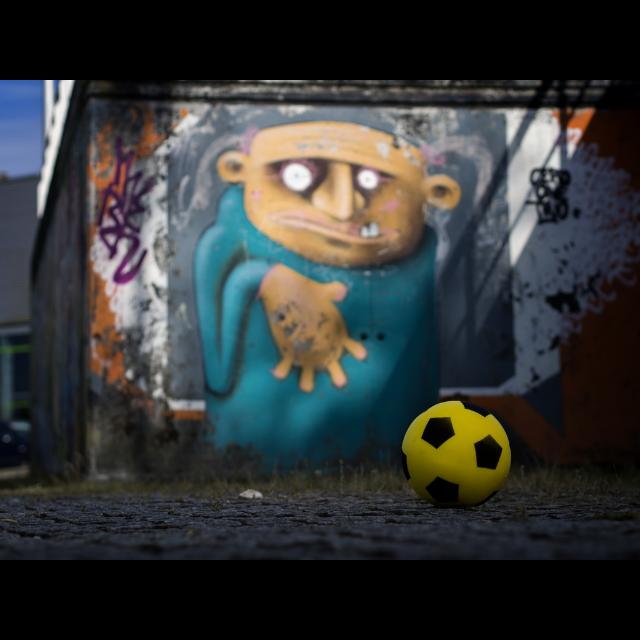Football: (402, 400, 512, 508)
